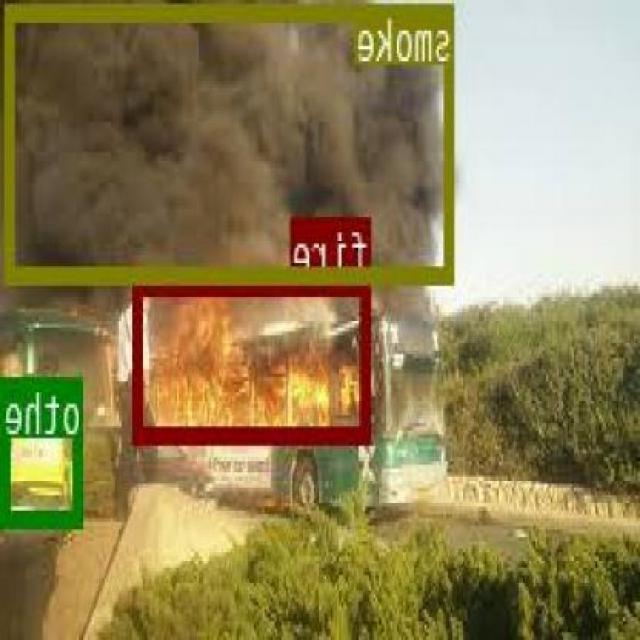Fire: (136, 276, 372, 442)
Smoke: (8, 1, 456, 281)
